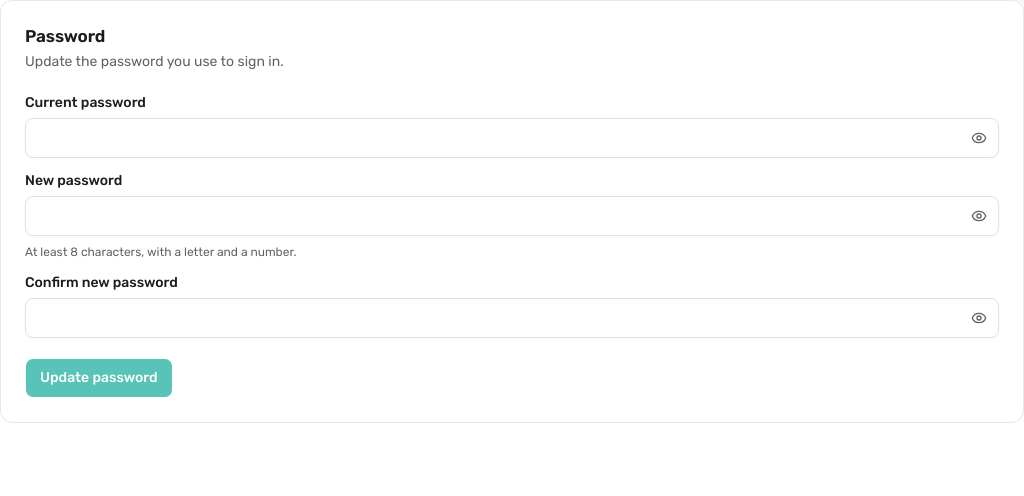
ChangePasswordCard › shows an inline error and does not submit when the new passwords don't match
In the password field labelled "Current password": (512, 138) [25, 118, 999, 158], type "MyPassword123!"
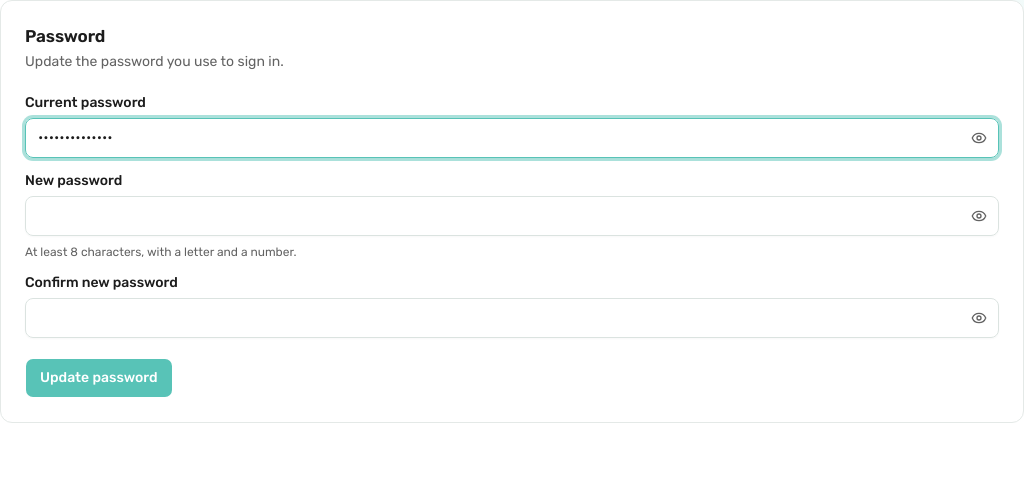
In the password field labelled "New password": (512, 216) [25, 196, 999, 236], type "NewPassword123!"
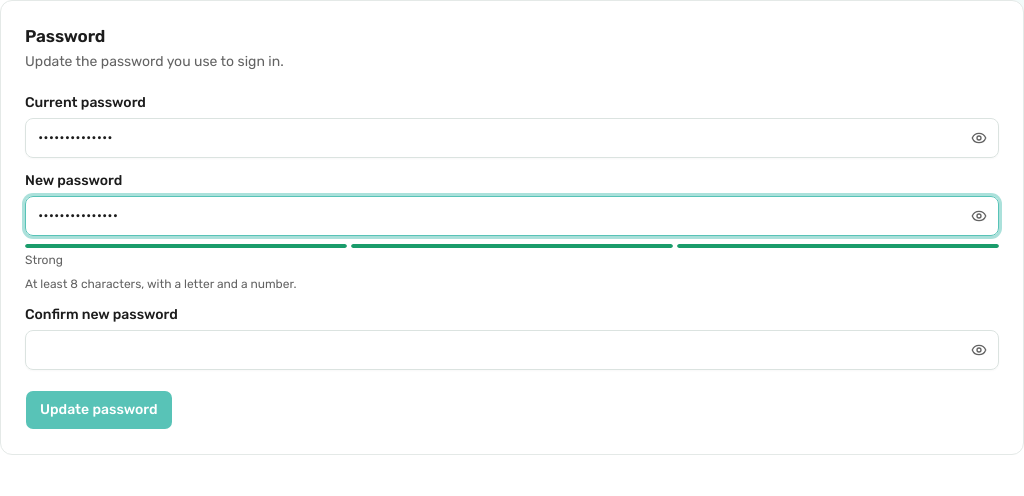
In the password field labelled "Confirm new password": (512, 350) [25, 330, 999, 370], type "Mismatch123!"
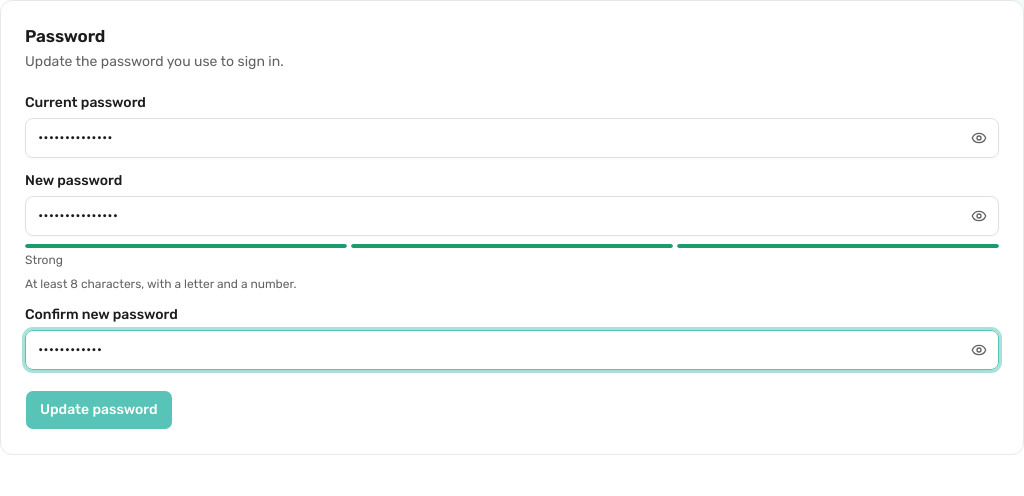
Click the button "Update password": click(99, 410) [25, 390, 172, 430]
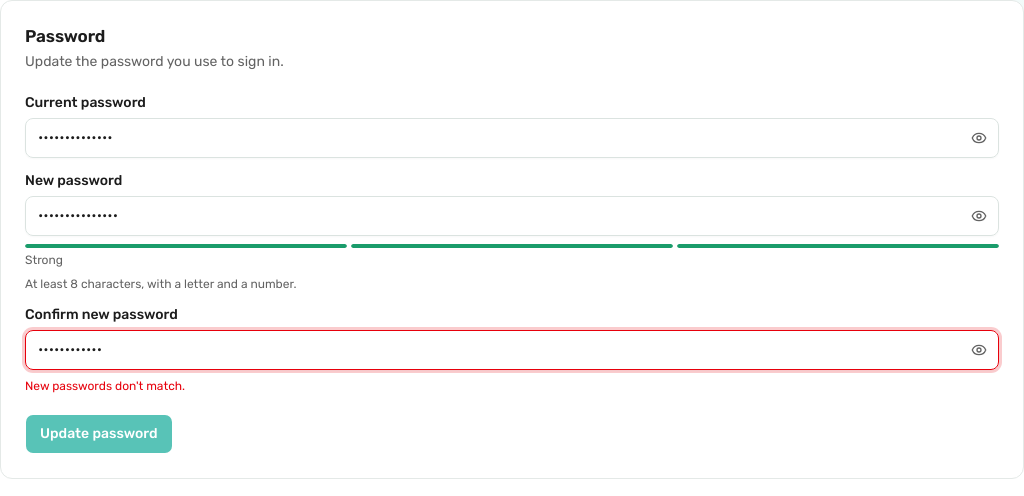
Check: the text "New passwords don't match." is shown, box [25, 379, 185, 393]
